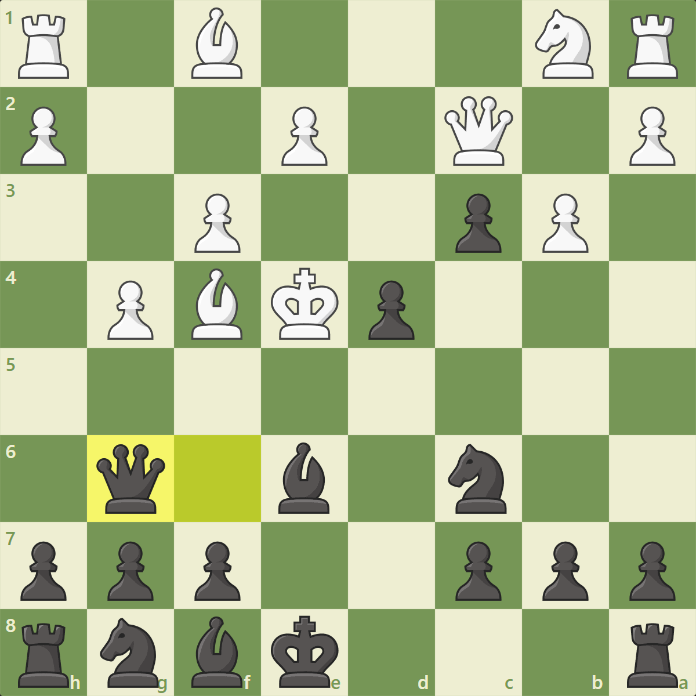B: (188, 6, 245, 81), (190, 266, 244, 341)
K: (267, 266, 341, 342)
N: (532, 7, 596, 81)
P: (105, 278, 156, 342), (190, 191, 241, 255), (278, 104, 329, 168), (17, 104, 68, 168), (538, 191, 589, 255), (625, 104, 676, 168)
Q: (442, 93, 516, 169)
R: (12, 11, 73, 83), (626, 12, 680, 80)
b: (273, 441, 332, 517), (190, 615, 244, 690)
k: (268, 614, 341, 691)
n: (445, 443, 510, 517), (99, 616, 161, 690)
p: (17, 539, 69, 604), (103, 537, 155, 602), (190, 538, 242, 603), (452, 537, 504, 602), (539, 537, 591, 602), (626, 537, 678, 602), (453, 192, 505, 256), (367, 279, 418, 343)
q: (95, 442, 167, 516)
r: (623, 621, 681, 691), (15, 621, 71, 691)
